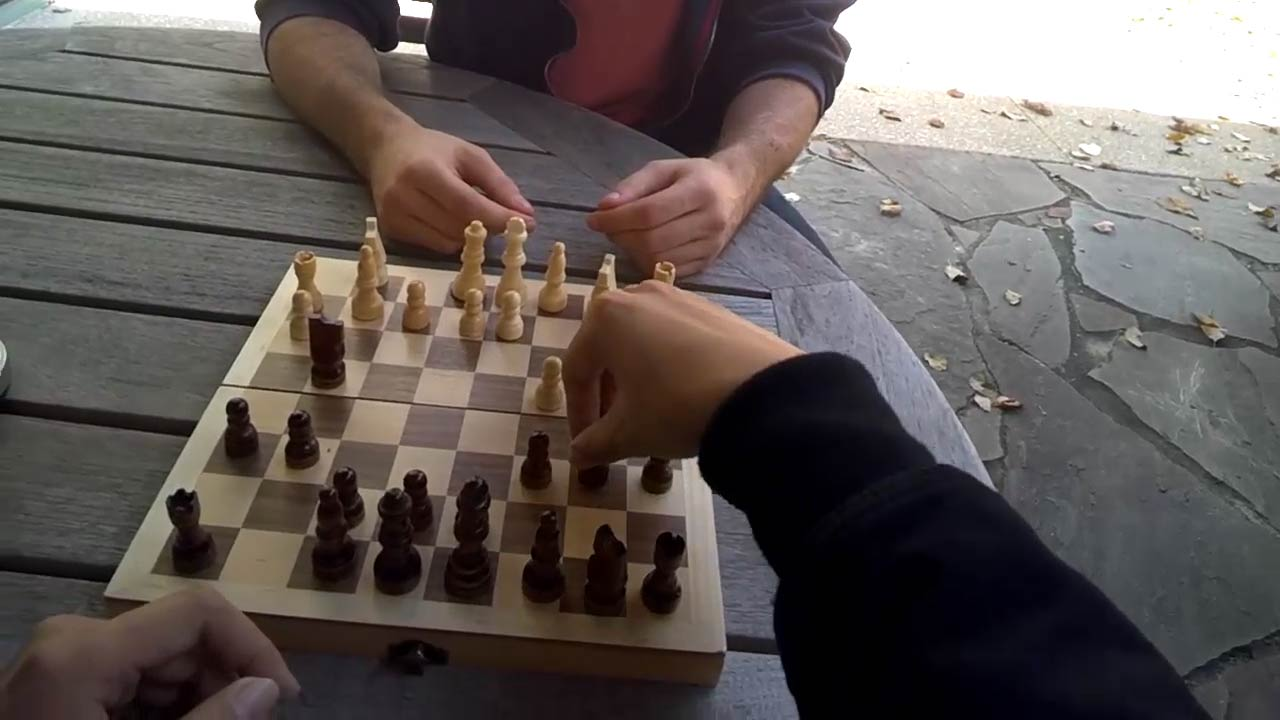hand: (563, 280, 791, 460), (2, 587, 287, 716), (372, 123, 534, 255), (591, 159, 743, 278)
